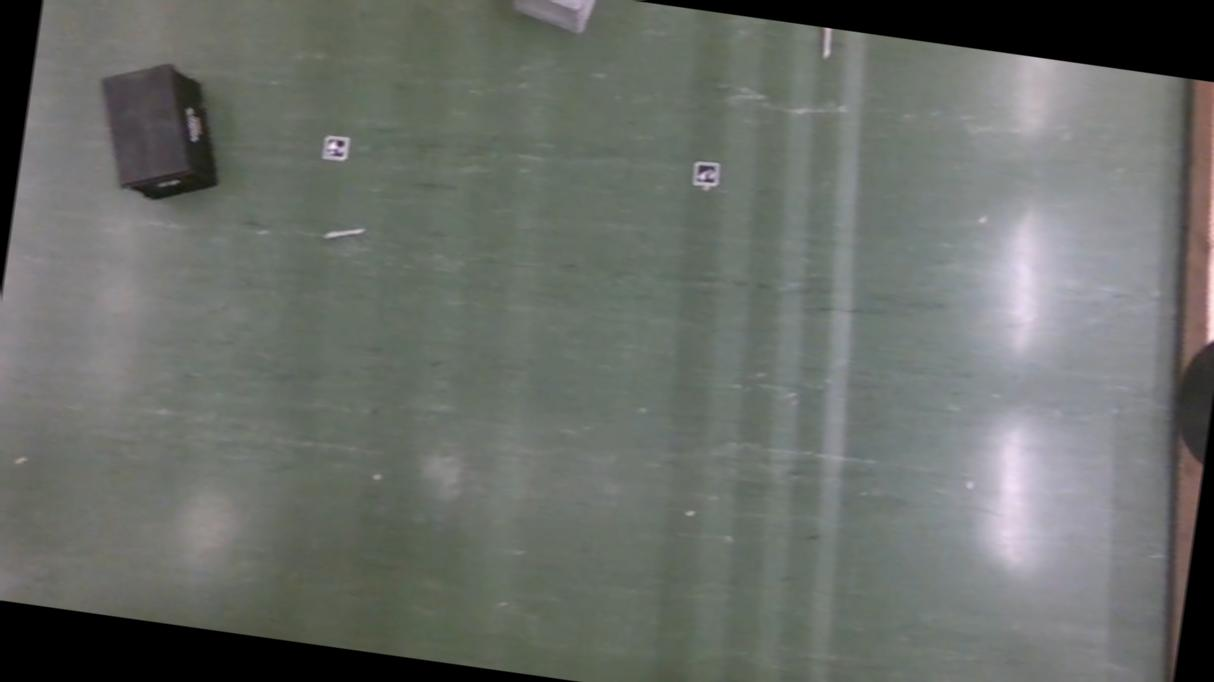probes: (326, 223, 365, 244), (818, 27, 836, 60)
rako: (85, 57, 232, 211), (500, 0, 600, 37)
